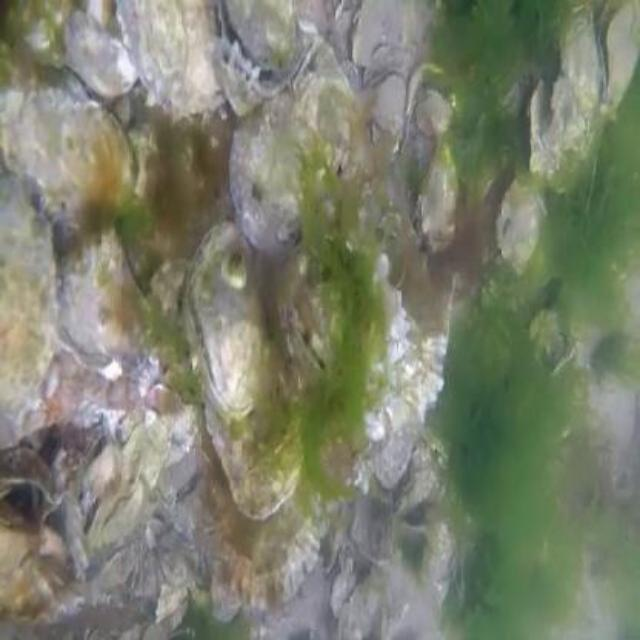Oyster-Closed: (228, 76, 354, 258), (0, 86, 131, 234), (185, 223, 271, 424), (0, 175, 59, 446), (205, 369, 303, 518), (115, 0, 225, 128), (55, 228, 151, 373), (21, 0, 140, 104), (498, 173, 549, 277), (417, 146, 460, 256), (375, 255, 409, 366), (339, 566, 382, 638), (374, 421, 416, 490), (369, 72, 410, 135), (536, 321, 578, 371), (395, 473, 436, 521), (291, 36, 321, 93), (418, 90, 453, 135)
Oyster-Open: (529, 3, 601, 194), (215, 0, 295, 91), (598, 0, 638, 107), (214, 40, 265, 117)
